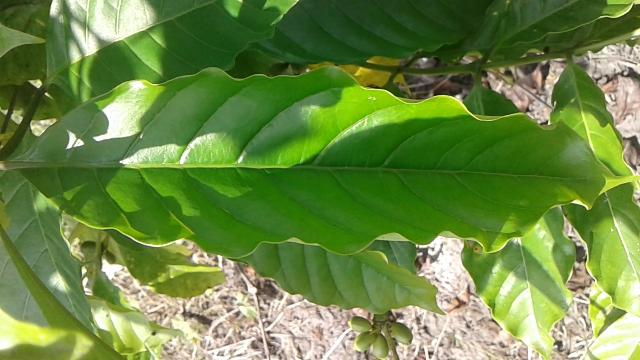healthy: (18, 66, 606, 259)
